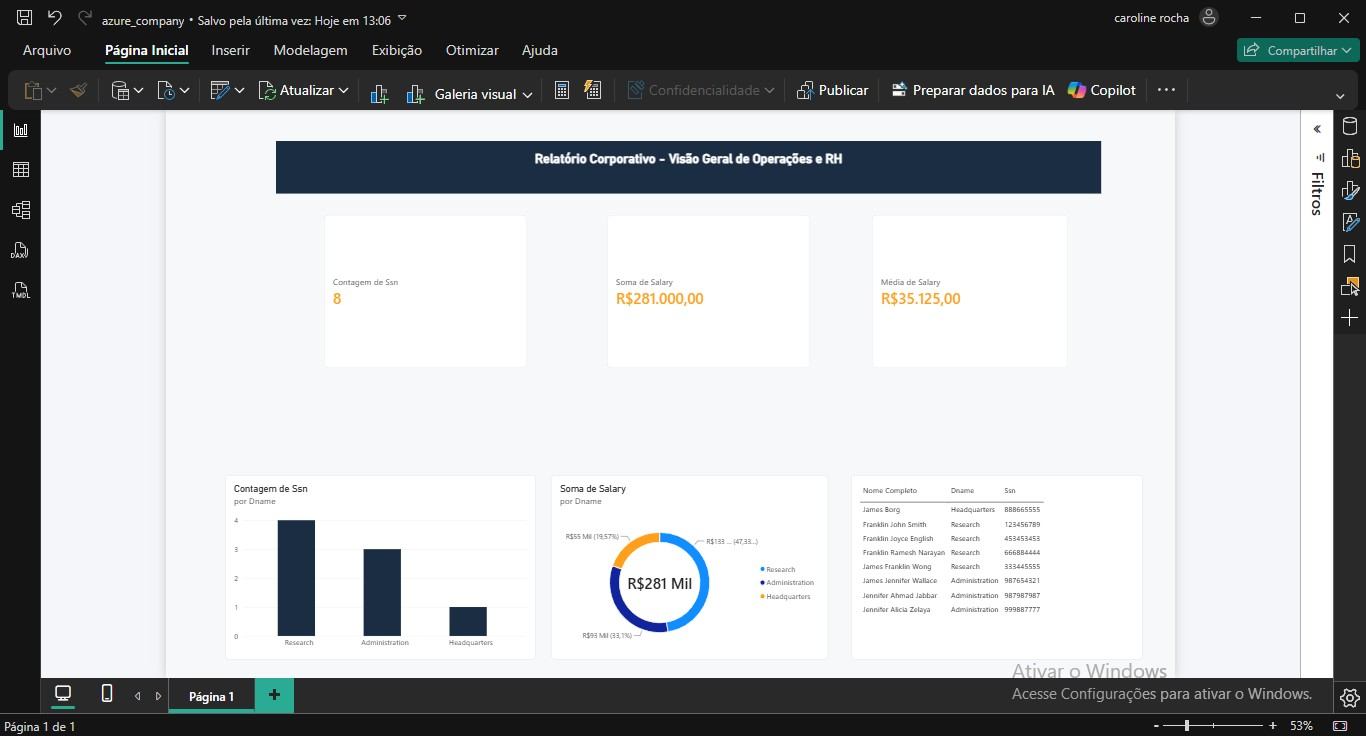

The dashboard page shown, as its layout file describes it:
{"tool":"powerbi","page":{"name":"Página 1","canvas":[1920,1080],"ordinal":0},"visuals":[{"type":"textbox","title":"Relatório Corporativo - Visão Geral de Operações e RH","box":[209.2,58.9,1569,99.9],"z":0},{"type":"cardVisual","fields":{"Data":["Count(azure_company employee.Ssn)"]},"box":[299.7,199.1,385.3,291.1],"z":1000},{"type":"cardVisual","fields":{"Data":["Sum(azure_company employee.Salary)"]},"box":[837.6,199.8,385.3,291.1],"z":2000},{"type":"columnChart","fields":{"Category":["azure_company employee.Dname"],"Y":["Count(azure_company employee.Ssn)"]},"box":[111.3,693.5,590.8,351],"z":3000},{"type":"donutChart","fields":{"Category":["azure_company employee.Dname"],"Y":["Sum(azure_company employee.Salary)"]},"box":[731.3,693.1,527.2,350.8],"z":4000},{"type":"tableEx","fields":{"Values":["azure_company employee.Nome Completo","azure_company employee.Dname","azure_company employee.Ssn"]},"box":[1303.2,693.1,554.9,350.8],"z":5000},{"type":"cardVisual","fields":{"Data":["Avg(azure_company employee.Salary)"]},"box":[1341.5,199.8,372,291.3],"z":6000}]}

Visuals, with their boxes on the page's 1920x1080 design canvas (x1, y1, x2, y2). These are canvas units, not pixel positions in the 1366x736 screenshot, which may show the page scaled, cropped or inside an application window:
"Relatório Corporativo - Visão Geral de Operações e RH" textbox: BBox(209, 59, 1778, 159)
cardVisual - Count(azure_company employee.Ssn): BBox(300, 199, 685, 490)
cardVisual - Sum(azure_company employee.Salary): BBox(838, 200, 1223, 491)
columnChart - azure_company employee.Dname x Count(azure_company employee.Ssn): BBox(111, 694, 702, 1044)
donutChart - azure_company employee.Dname x Sum(azure_company employee.Salary): BBox(731, 693, 1258, 1044)
tableEx - azure_company employee.Nome Completo x azure_company employee.Dname: BBox(1303, 693, 1858, 1044)
cardVisual - Avg(azure_company employee.Salary): BBox(1342, 200, 1714, 491)
